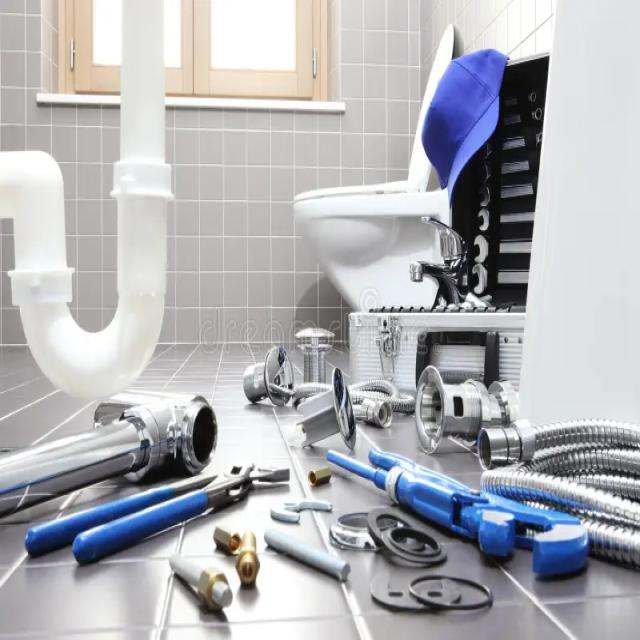Fitting: (46, 29, 467, 634)
